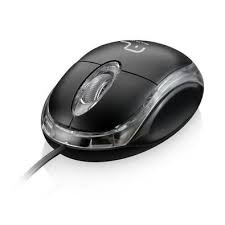mouse: (36, 36, 207, 160)
